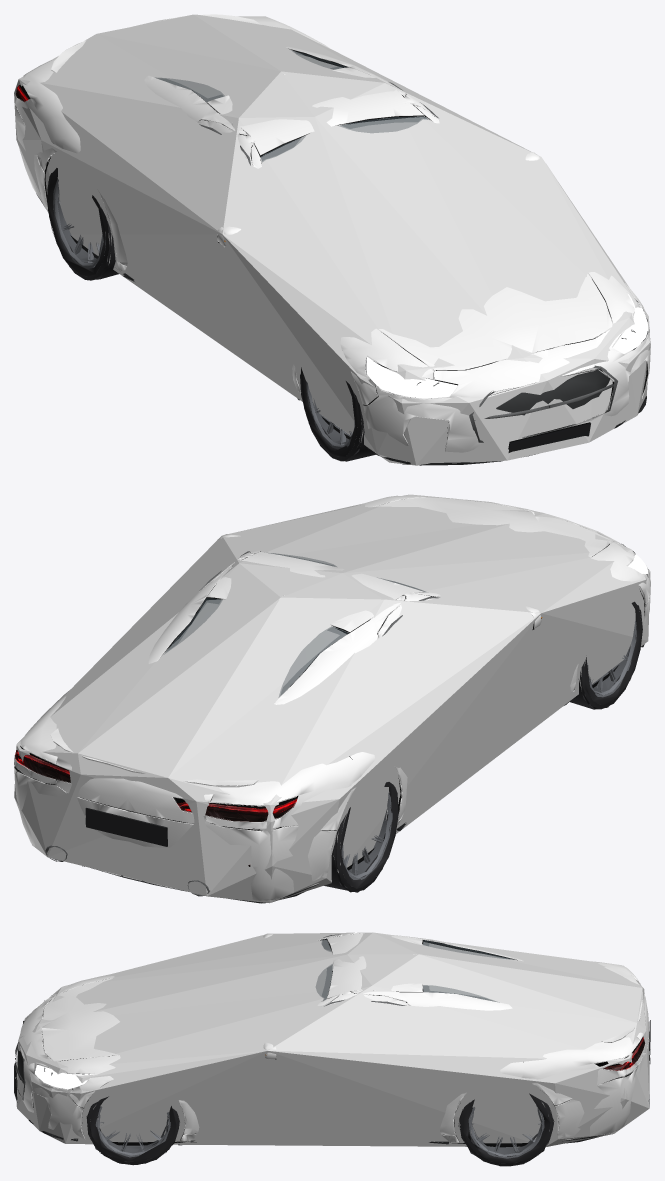
File: noctra_meridian_lod1.glb
The picture shows the model from 3 angles, top to bottom: view 1: azimuth 30°, elevation 25°; view 2: azimuth 150°, elevation 25°; view 3: azimuth 270°, elevation 25°; orthographic projection. The views are drawn at different scales.
Visible parts, largest first — view 1: col_body, body, trim, wheel_RR, lights_front, wheel_FR, glass; view 2: col_body, body, trim, wheel_RR, wheel_FR, lights_rear, glass; view 3: col_body, body, wheel_RL, wheel_FL, trim, glass, lights_front, lights_rear.
Part boxes in pixels (<box>): col_body: <box>14,14,650,465</box>; body: <box>14,14,650,452</box>; trim: <box>15,49,648,465</box>; wheel_RR: <box>47,168,118,280</box>; lights_front: <box>366,293,647,398</box>; wheel_FR: <box>300,367,375,461</box>; glass: <box>155,50,428,162</box>; col_body: <box>14,494,650,903</box>; body: <box>14,495,650,901</box>; trim: <box>14,543,648,903</box>; wheel_RR: <box>324,782,398,892</box>; wheel_FR: <box>570,601,642,709</box>; lights_rear: <box>15,746,298,866</box>; glass: <box>164,553,426,697</box>; col_body: <box>16,932,649,1147</box>; body: <box>15,932,649,1142</box>; wheel_RL: <box>458,1093,554,1166</box>; wheel_FL: <box>86,1096,179,1165</box>; trim: <box>14,934,650,1147</box>; glass: <box>316,939,513,1001</box>; lights_front: <box>35,996,93,1089</box>; lights_rear: <box>594,1036,644,1070</box>.
Bounding box in the file's own units: 2.08 × 1.33 × 4.78.
Materials: 8 (1 with a texture image).
